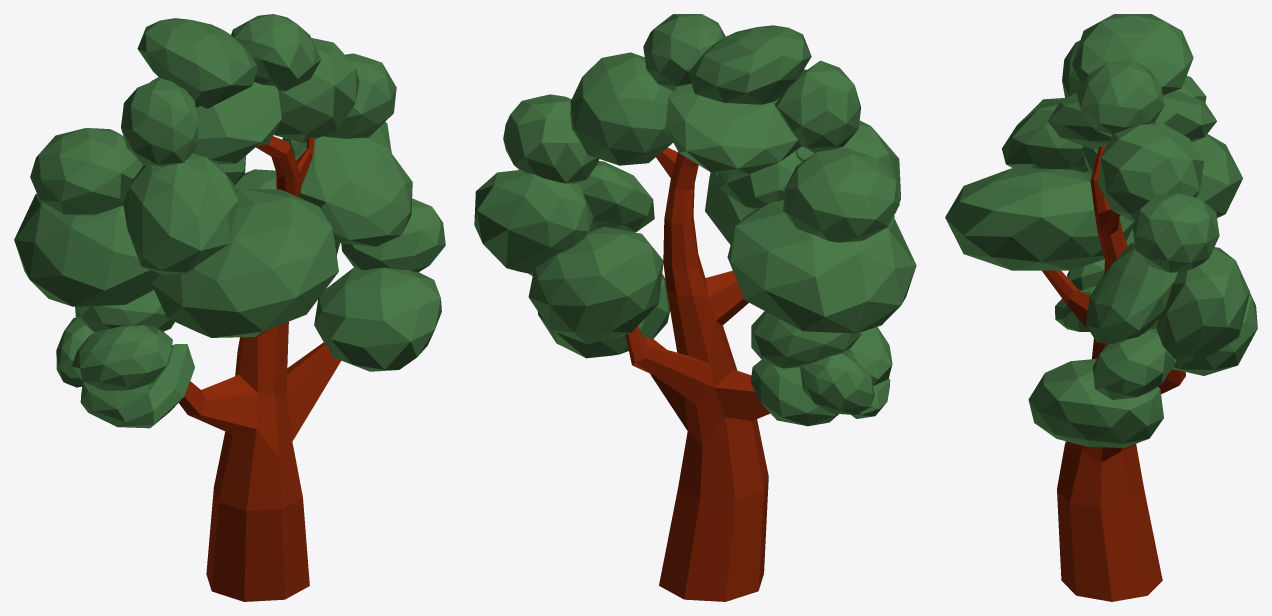
File: Oak_VM.fbx
3 renders of one model, left to right at view 1: azimuth 30°, elevation 25°; view 2: azimuth 150°, elevation 25°; view 3: azimuth 270°, elevation 25°, orthographic. The views are drawn at different scales.
Parts seen in each view (by area): view 1: Oak_Folhas_Verde_Medio; view 2: Oak_Folhas_Verde_Medio; view 3: Oak_Folhas_Verde_Medio.
Boxes of the visible parts, x1,y1,x2,y2 form: Oak_Folhas_Verde_Medio: (14,14,445,601); Oak_Folhas_Verde_Medio: (474,14,916,601); Oak_Folhas_Verde_Medio: (945,14,1257,601).
Size of the model in its own units: 396 by 531 by 284.
